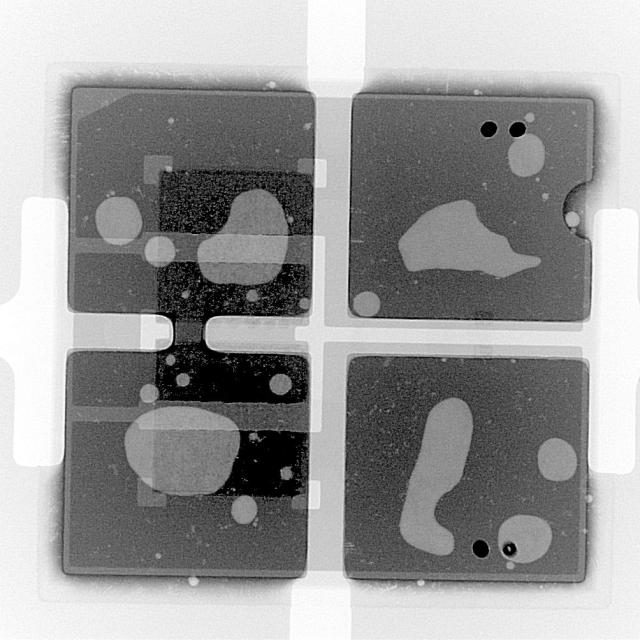component: (62, 345, 309, 578), (69, 88, 315, 321), (345, 356, 590, 583), (349, 94, 593, 321)
void: (60, 84, 315, 579), (400, 398, 474, 557), (399, 200, 542, 278), (124, 407, 240, 497), (197, 189, 289, 285), (499, 516, 553, 565), (95, 196, 142, 245), (539, 439, 579, 482), (509, 133, 546, 177), (143, 236, 176, 267), (136, 479, 166, 508), (298, 158, 327, 188), (143, 156, 172, 184), (231, 496, 258, 526), (353, 291, 381, 317), (269, 374, 292, 396), (139, 384, 159, 404), (565, 210, 582, 229), (175, 373, 191, 388), (292, 495, 307, 510), (280, 467, 293, 482), (246, 289, 259, 302), (164, 354, 176, 367), (299, 298, 311, 311), (187, 578, 199, 588), (525, 112, 536, 122), (249, 433, 260, 442), (181, 290, 190, 299), (303, 122, 313, 130), (507, 563, 516, 571), (418, 581, 426, 588), (543, 193, 551, 200), (154, 554, 161, 561), (167, 117, 174, 124)
